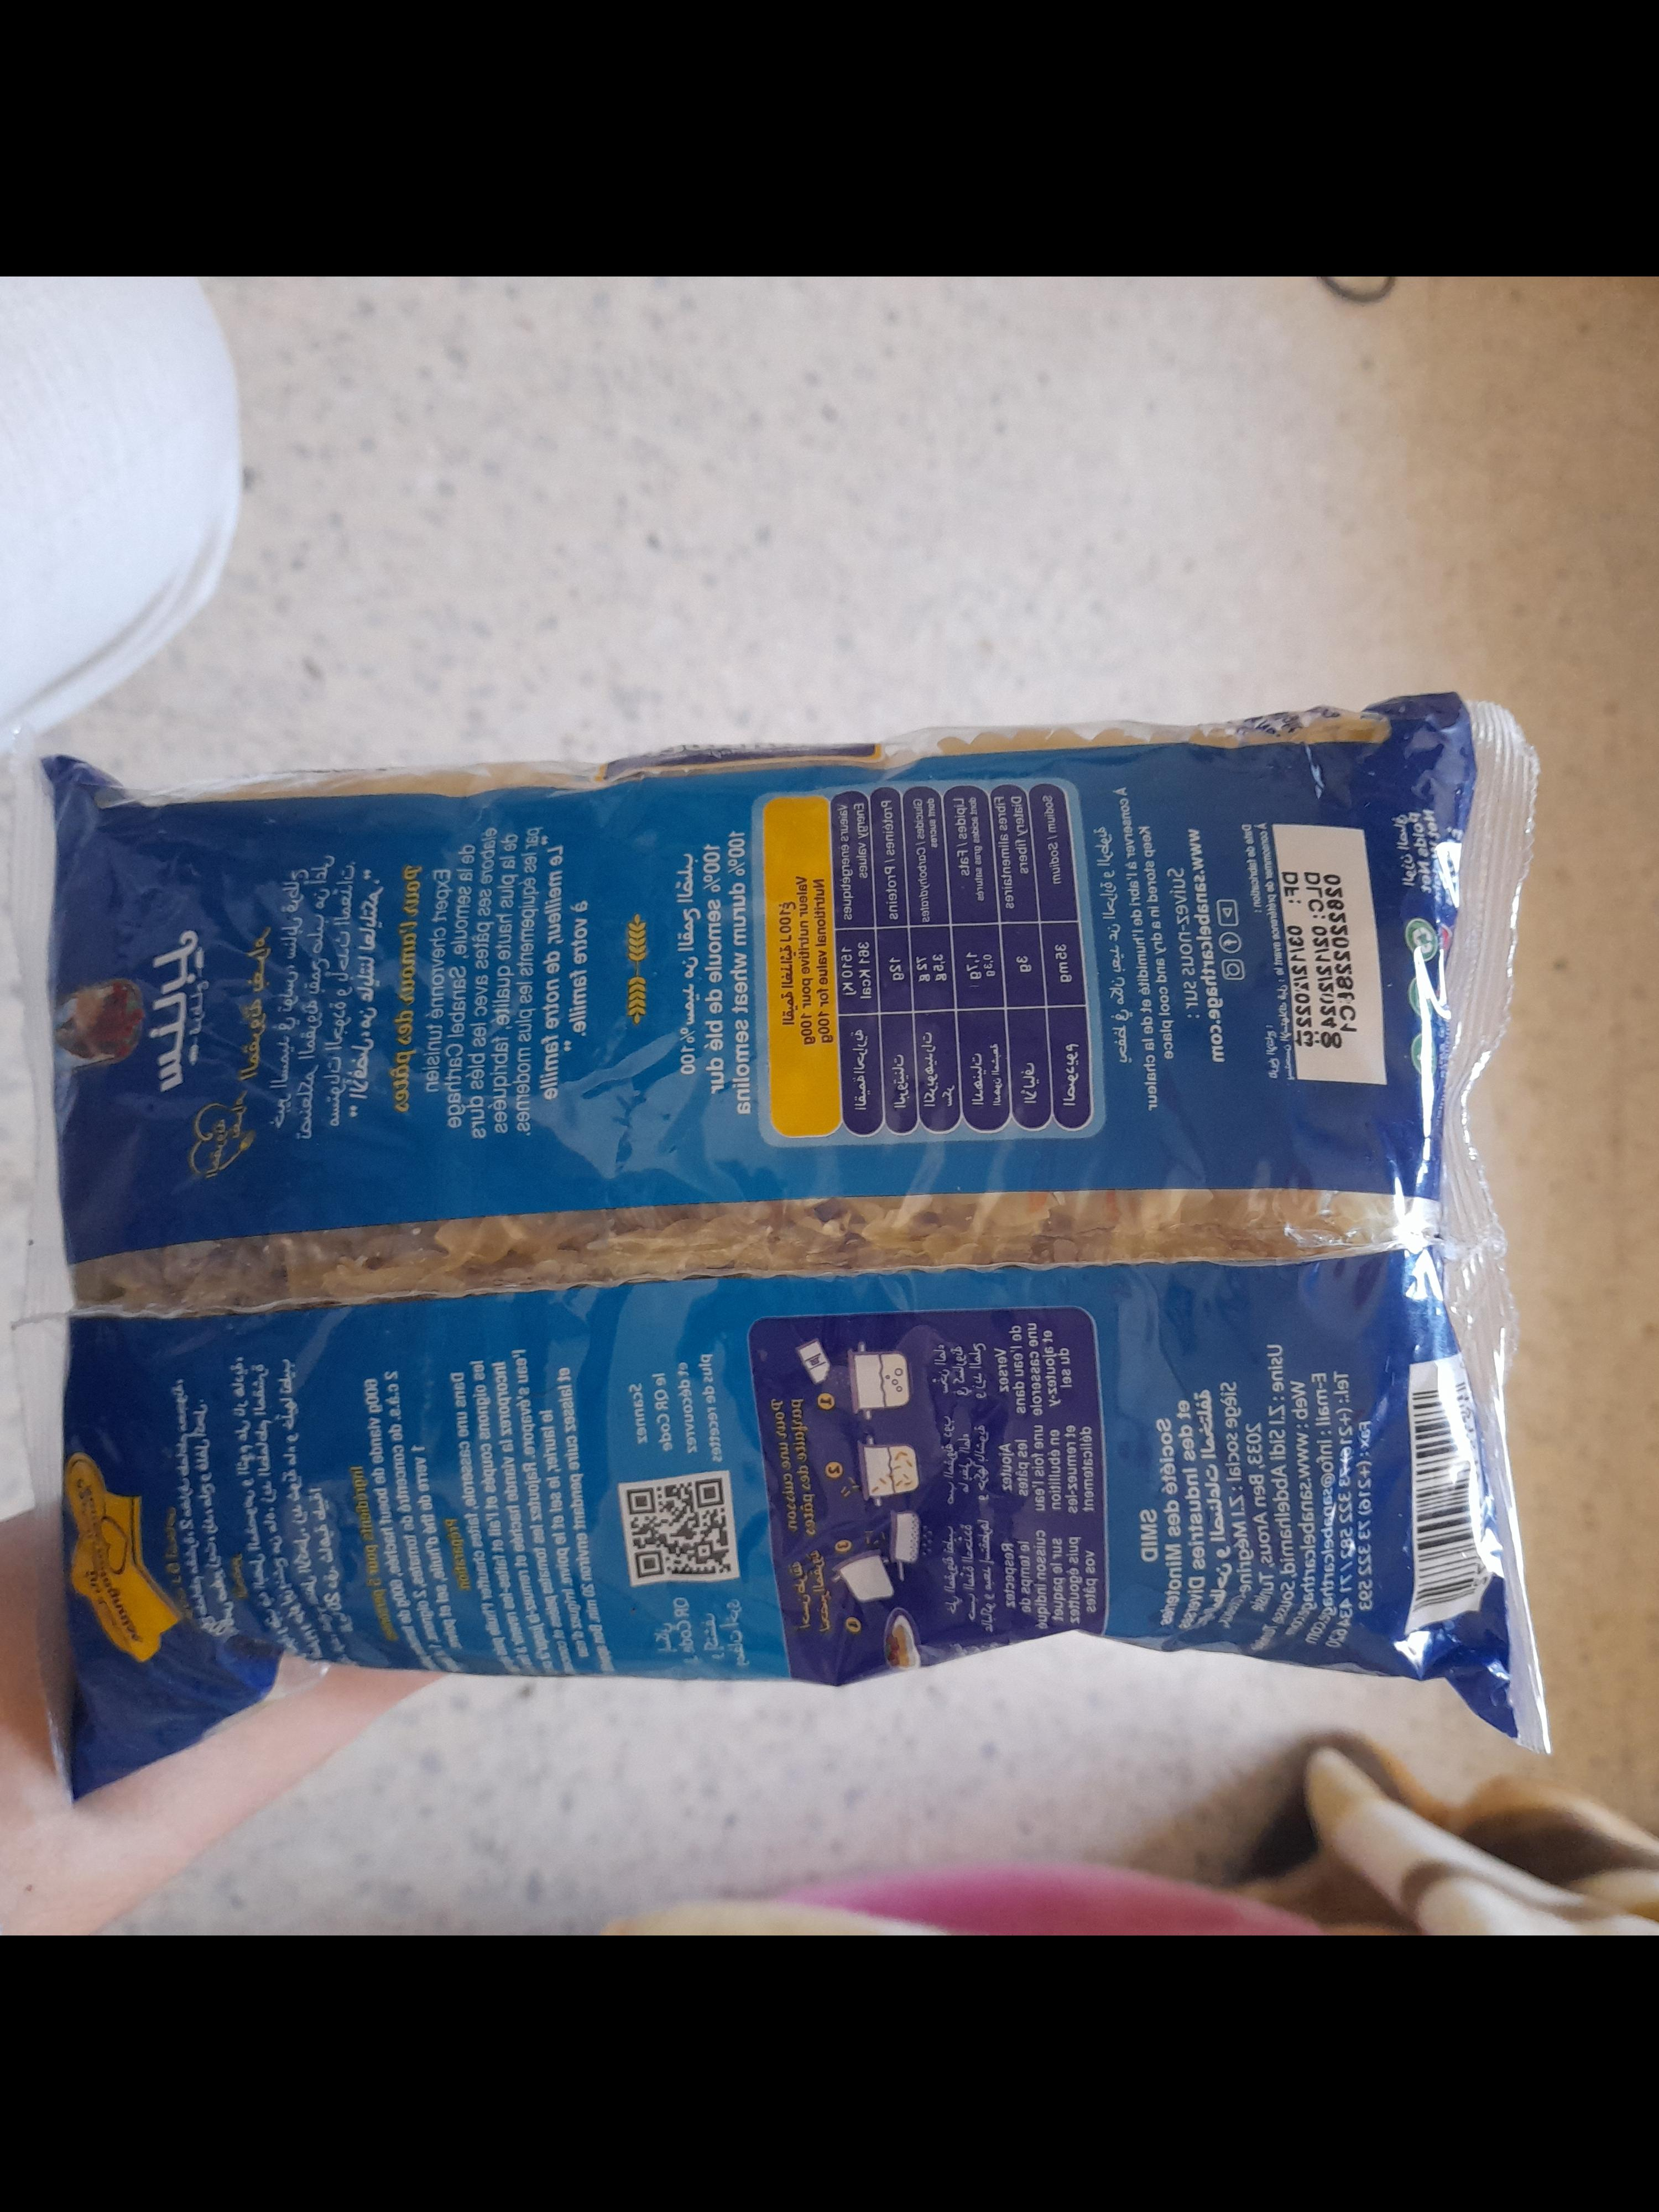Ressort: (1086, 1306, 1659, 1810)
